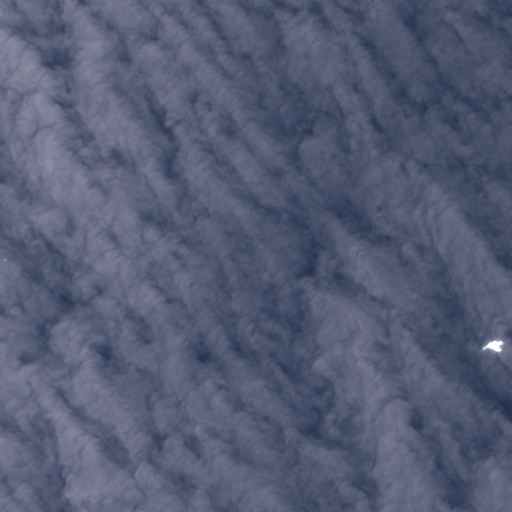Iceberg: (482, 340, 503, 352), (4, 259, 5, 260)
